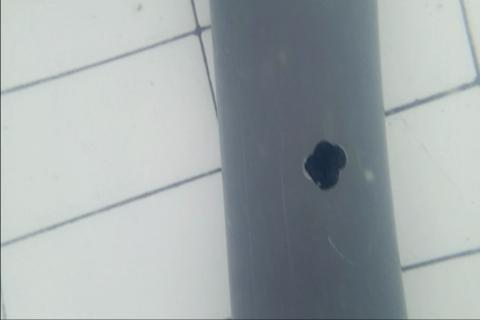kebocoran: (301, 136, 348, 193)
